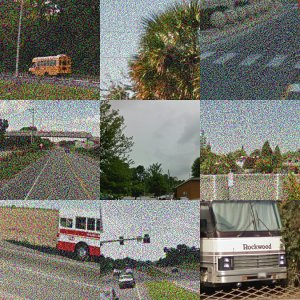公車: (100, 230, 199, 300), (18, 134, 84, 193), (111, 35, 168, 80)
汽車: (135, 134, 172, 153), (241, 117, 260, 134)
消防栓: (229, 232, 300, 298)
紅綠燈: (35, 1, 92, 99)
行人穿越道: (1, 203, 100, 300)
